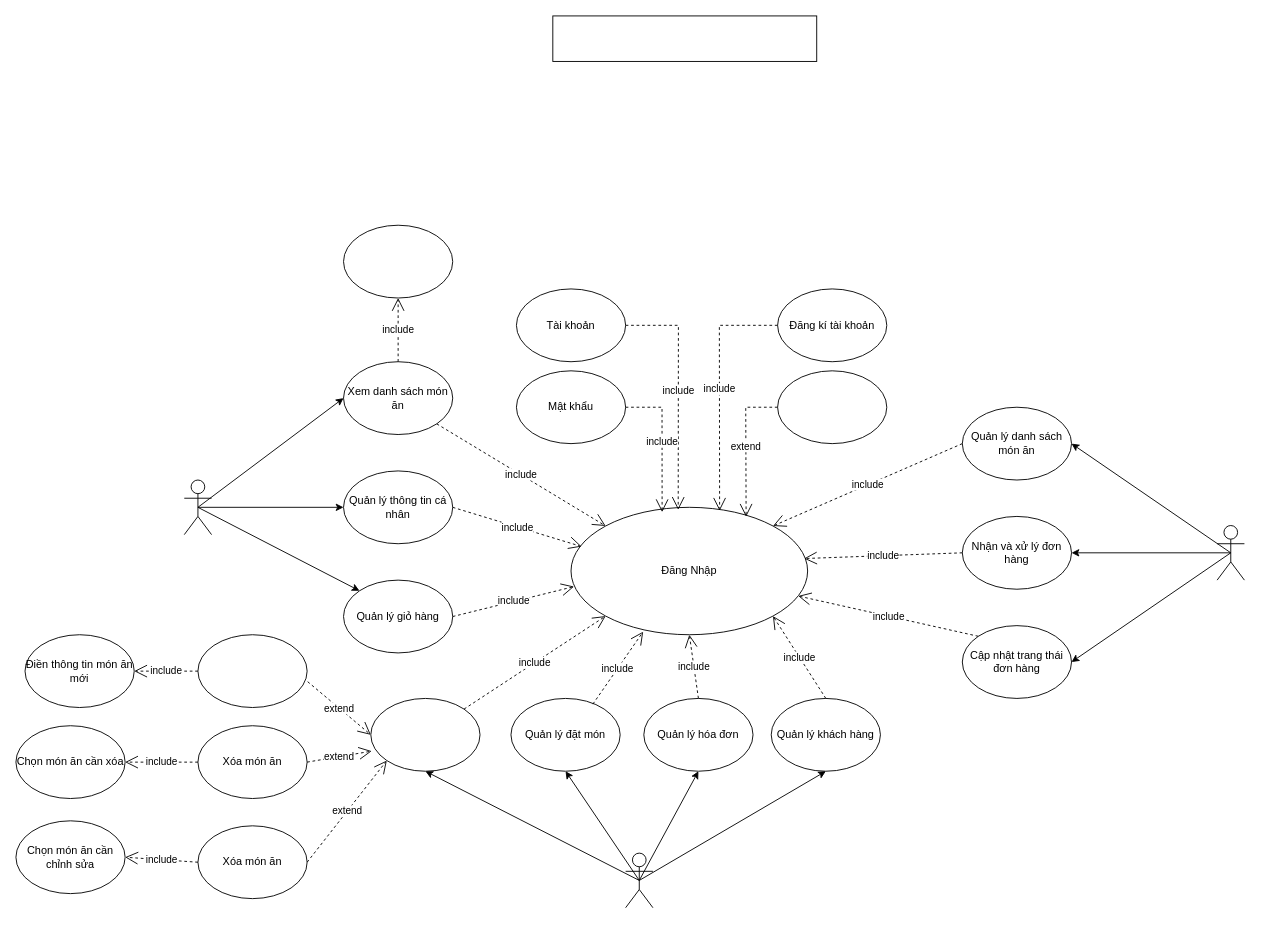
This 1270x943 diagram has some shape labels left out. The centre of each missing label's shape, as x and y in pixels:
Admin: point 639,880
Hệ thống đặt món ăn: point 684,38
Khách hàng: point 197,507
Nhà hàng: point 1230,552
Quên mật khẩu: point 832,407
Quản lý món ăn: point 425,734
Thêm món ăn: point 252,671
Đặt món: point 398,261
